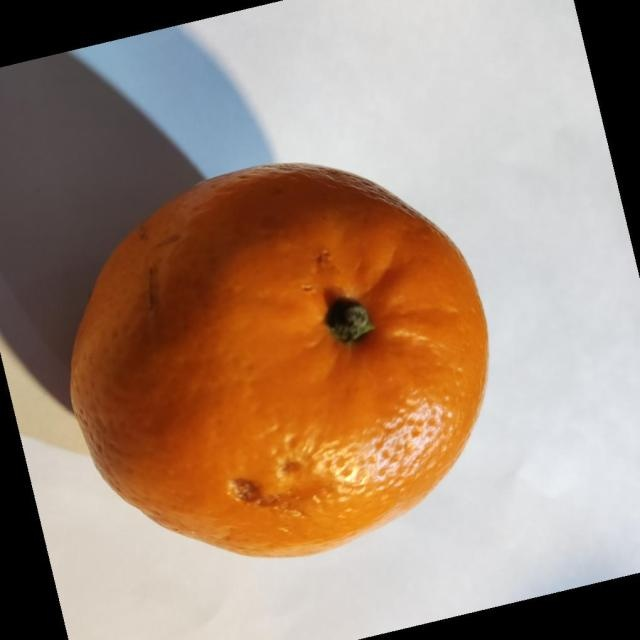agrume: (68, 161, 490, 559)
